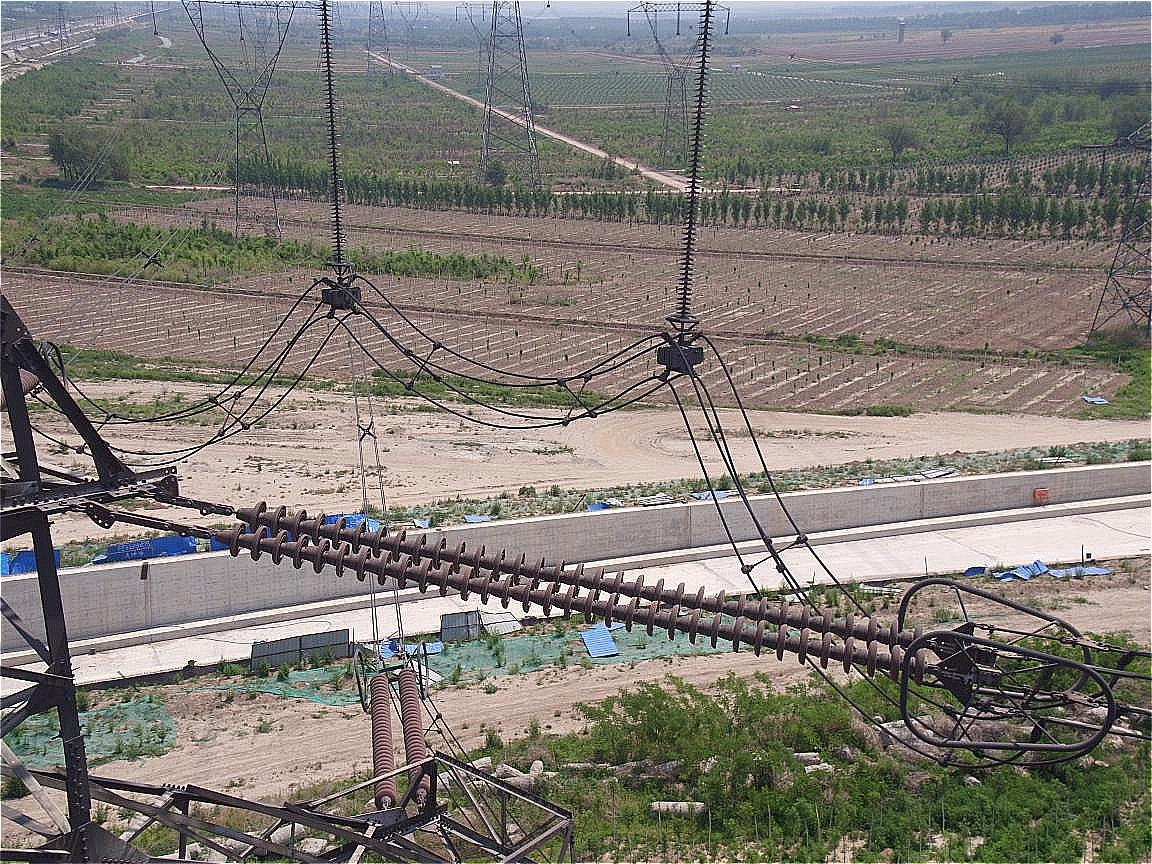insultor1: (196, 493, 930, 696)
